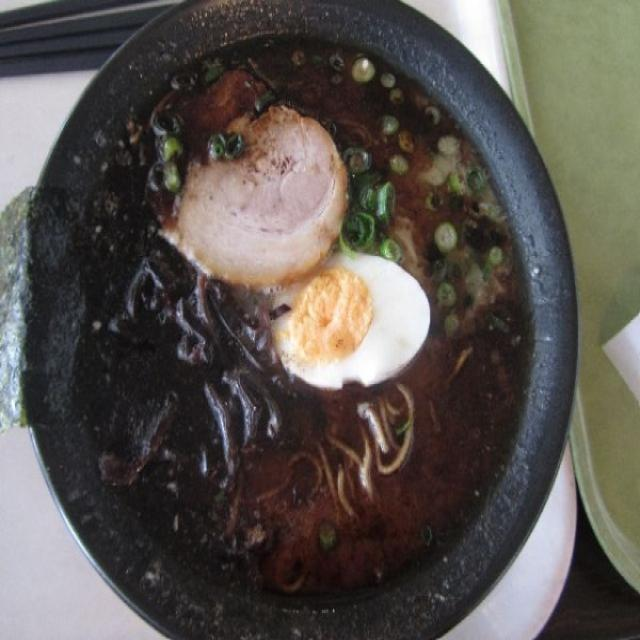面条主食: (14, 0, 588, 640)
